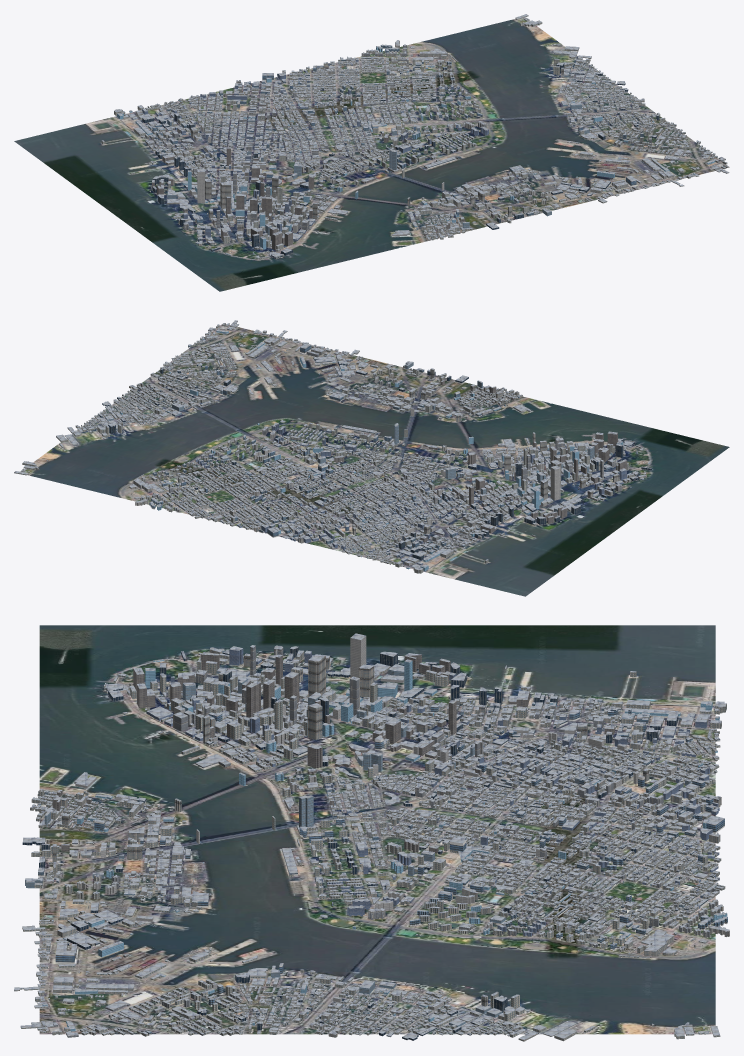
The model's file is manhattan.fbx.
3 renders of one model, top to bottom at view 1: azimuth 30°, elevation 25°; view 2: azimuth 150°, elevation 25°; view 3: azimuth 270°, elevation 25°, orthographic. The views are drawn at different scales.
Parts seen in each view (by area): view 1: Manhattan_Ground, Manhattan_Buildings; view 2: Manhattan_Ground, Manhattan_Buildings; view 3: Manhattan_Ground, Manhattan_Buildings.
Boxes of the visible parts, <box> form: Manhattan_Ground: <box>14,17,729,291</box>; Manhattan_Buildings: <box>101,14,729,259</box>; Manhattan_Ground: <box>21,324,729,596</box>; Manhattan_Buildings: <box>14,320,651,573</box>; Manhattan_Ground: <box>39,625,715,1034</box>; Manhattan_Buildings: <box>14,633,729,1041</box>.
Size of the model in its own units: 712913 by 41000 by 517998.
12 materials, 12 textured.
